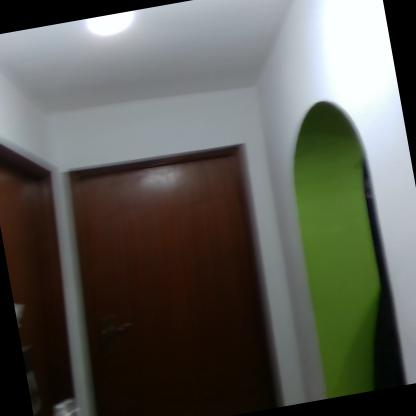closed: (46, 130, 305, 415), (0, 120, 98, 415)
